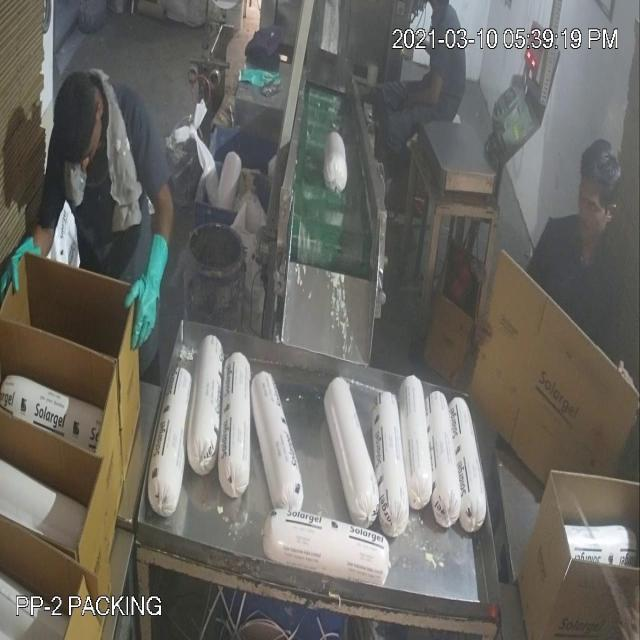gloves: (117, 215, 181, 370)
